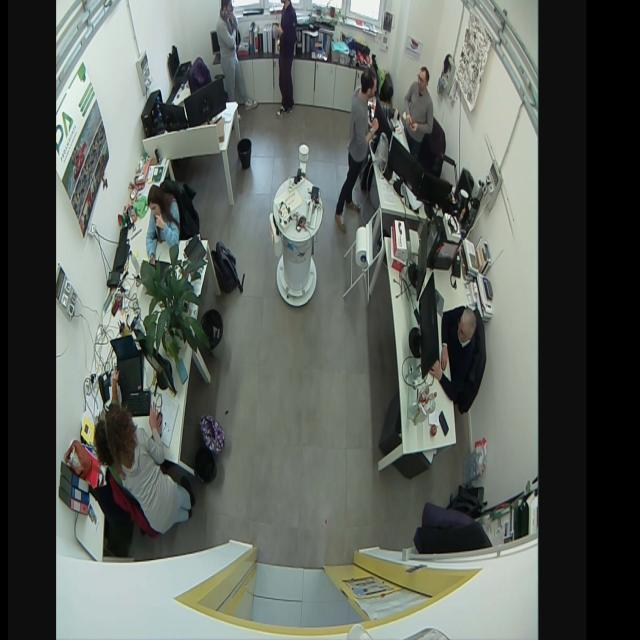Persona: (103, 403, 197, 535), (334, 66, 384, 230), (431, 302, 484, 405), (215, 0, 259, 112), (143, 180, 181, 266), (273, 0, 300, 119), (403, 62, 436, 150)
